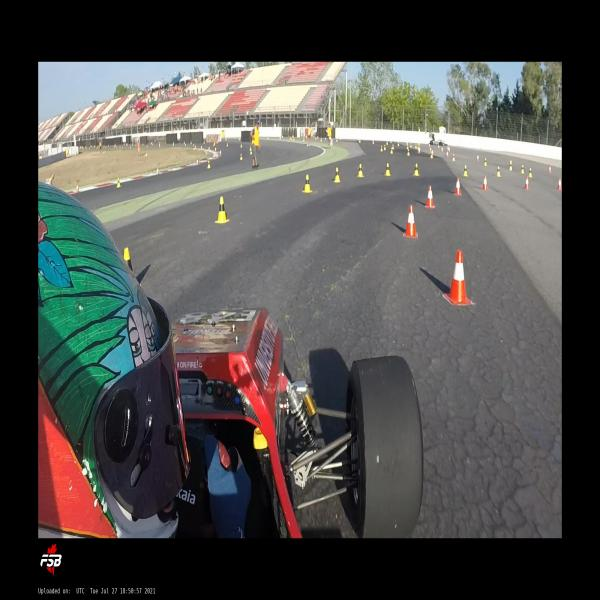orange_cone: (443, 250, 471, 305), (403, 204, 418, 238), (425, 185, 435, 210), (454, 177, 461, 196), (482, 175, 488, 191), (524, 176, 530, 190), (557, 177, 561, 190), (76, 184, 80, 194), (548, 165, 552, 173), (156, 167, 160, 175), (476, 154, 479, 160), (446, 151, 449, 157), (196, 159, 199, 165), (418, 147, 420, 153)
yellow_cone: (215, 196, 229, 224), (123, 248, 133, 272), (302, 174, 312, 192), (384, 162, 391, 176), (357, 164, 364, 178), (334, 167, 340, 182), (462, 164, 468, 177), (413, 163, 419, 176), (508, 159, 513, 171), (528, 167, 533, 178), (496, 166, 500, 178), (520, 164, 524, 174), (117, 178, 121, 188), (207, 160, 211, 169), (452, 154, 456, 161), (484, 157, 487, 166), (407, 148, 410, 156), (390, 146, 393, 154), (430, 151, 433, 158), (380, 145, 383, 151), (240, 153, 242, 160), (384, 144, 386, 150)
